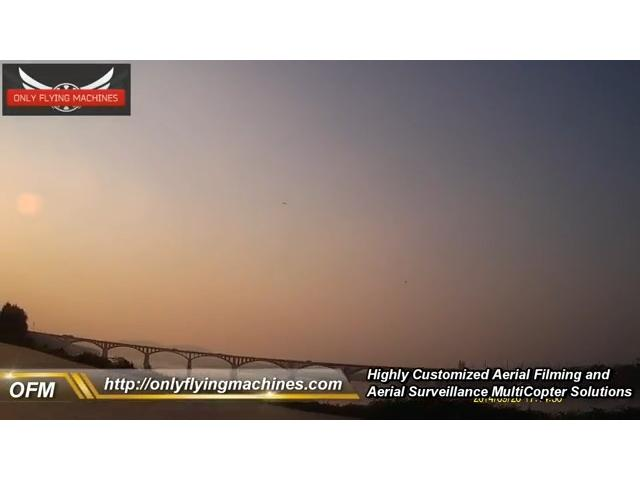Anti-Drone: (275, 198, 295, 212)
